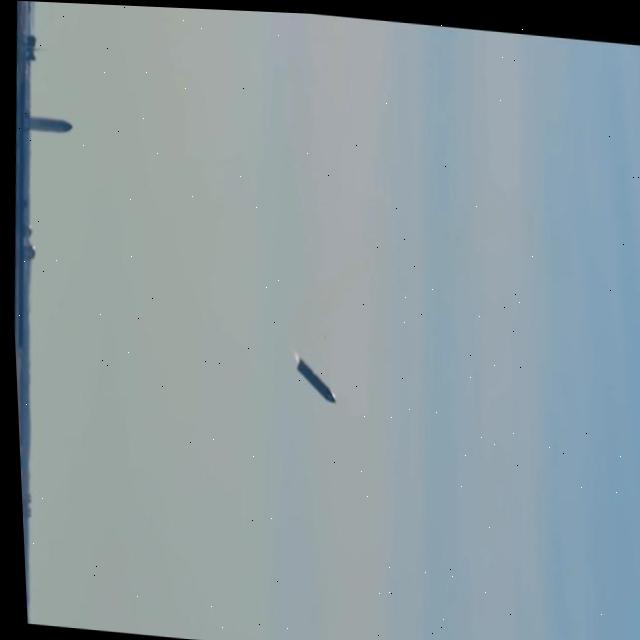missile: (287, 349, 340, 403)
